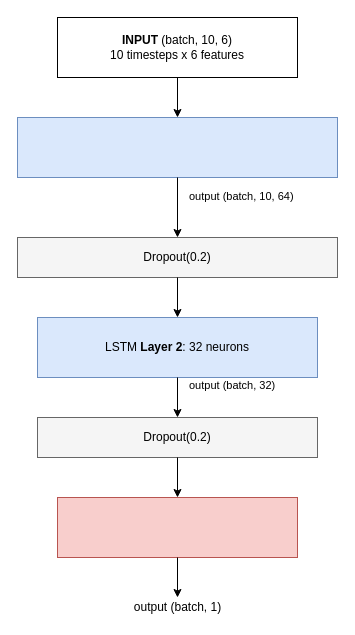
Image size: 355x635. Some labels were removed from this diagram. Here are the shapes that lost their labels. From the top down, the centre of each, then its label:
At (177,147): "LSTM Layer 1 : 64 neurons, return_sequences=True".
At (177,527): "Dense Output Layer : 1 neuron gridlock level".
